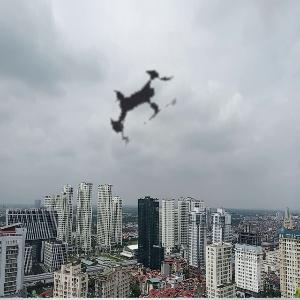drone: (76, 36, 207, 167)
